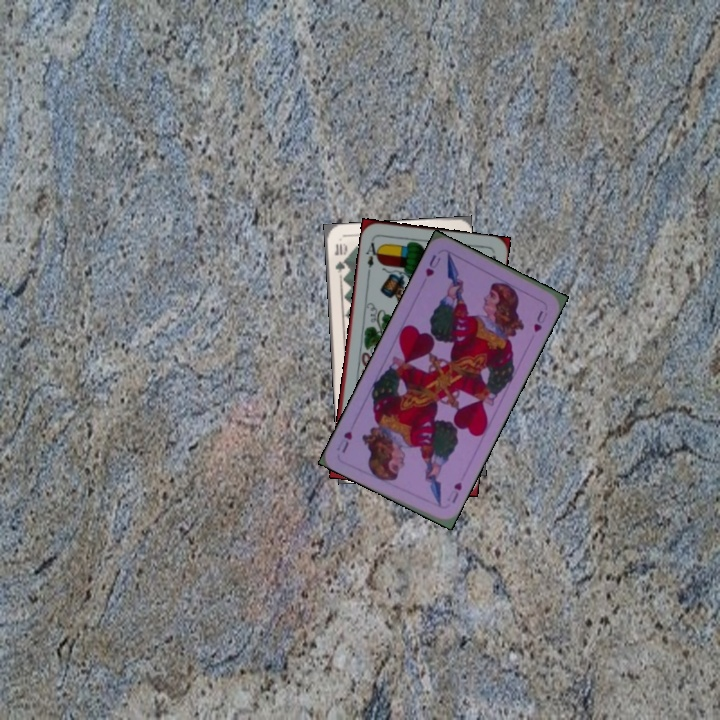EA: (361, 235, 383, 276)
G10: (331, 239, 349, 275)
HU: (421, 250, 443, 279), (443, 478, 465, 506)
